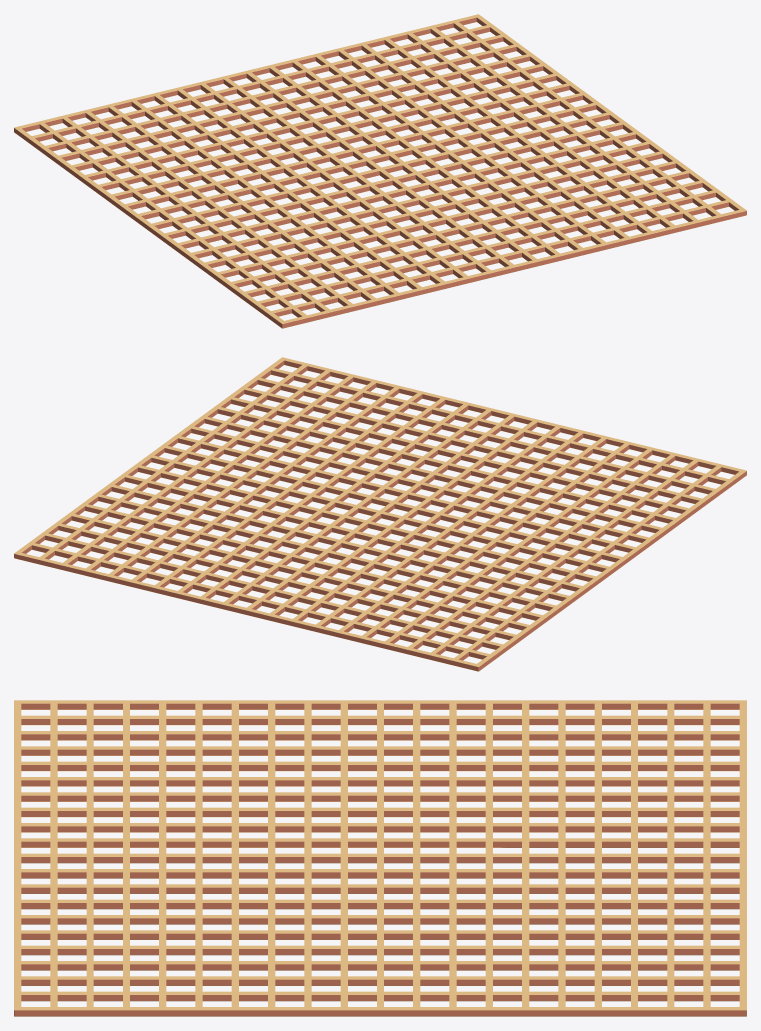
Rendered from WoodGrate.fbx.
The picture shows the model from 3 angles, top to bottom: view 1: azimuth 30°, elevation 25°; view 2: azimuth 150°, elevation 25°; view 3: azimuth 270°, elevation 25°; orthographic projection. The views are drawn at different scales.
Parts seen in each view (by area): view 1: Cube.045, Cube.049, Cube.048, Cube.051, Cube.037, Cube.035, Cube.041, Cube.050, Cube.044, Cube.055, Cube.052, Cube.054 (+30 smaller); view 2: Cube.035, Cube.047, Cube.045, Cube.042, Cube.051, Cube.038, Cube.039, Cube.054, Cube.037, Cube.049, Cube.050, Cube.041 (+30 smaller); view 3: Cube.034, Cube.020, Cube.023, Cube.017, Cube.033, Cube.030, WoodGrate, Cube.027, Cube.024, Cube.021, Cube.032, Cube.018 (+30 smaller).
Boxes of the visible parts, <box> form: Cube.045: <box>284,209,742,327</box>; Cube.049: <box>229,170,690,287</box>; Cube.048: <box>243,180,704,297</box>; Cube.051: <box>203,151,664,267</box>; Cube.037: <box>45,34,504,151</box>; Cube.035: <box>17,15,478,131</box>; Cube.041: <box>98,73,557,190</box>; Cube.050: <box>216,161,677,277</box>; Cube.044: <box>138,103,597,219</box>; Cube.055: <box>152,112,610,228</box>; Cube.052: <box>191,141,650,258</box>; Cube.054: <box>165,122,623,238</box>; Cube.035: <box>16,552,478,670</box>; Cube.047: <box>257,378,716,494</box>; Cube.045: <box>283,358,743,474</box>; Cube.042: <box>110,484,571,601</box>; Cube.051: <box>203,416,664,533</box>; Cube.038: <box>56,523,517,640</box>; Cube.039: <box>71,514,530,630</box>; Cube.054: <box>164,445,622,562</box>; Cube.037: <box>45,533,504,649</box>; Cube.049: <box>230,397,690,513</box>; Cube.050: <box>216,407,677,523</box>; Cube.041: <box>98,494,557,610</box>; Cube.034: <box>14,1007,746,1016</box>; Cube.020: <box>17,761,743,771</box>; Cube.023: <box>17,715,742,725</box>; Cube.017: <box>18,807,743,817</box>; Cube.033: <box>18,991,743,1001</box>; Cube.030: <box>19,945,742,955</box>; WoodGrate: <box>18,853,743,863</box>; Cube.027: <box>18,899,741,909</box>; Cube.024: <box>14,700,746,709</box>; Cube.021: <box>17,746,743,755</box>; Cube.032: <box>18,976,743,985</box>; Cube.018: <box>17,792,743,801</box>.
Size of the model in its own units: 2020 by 20 by 2020.
